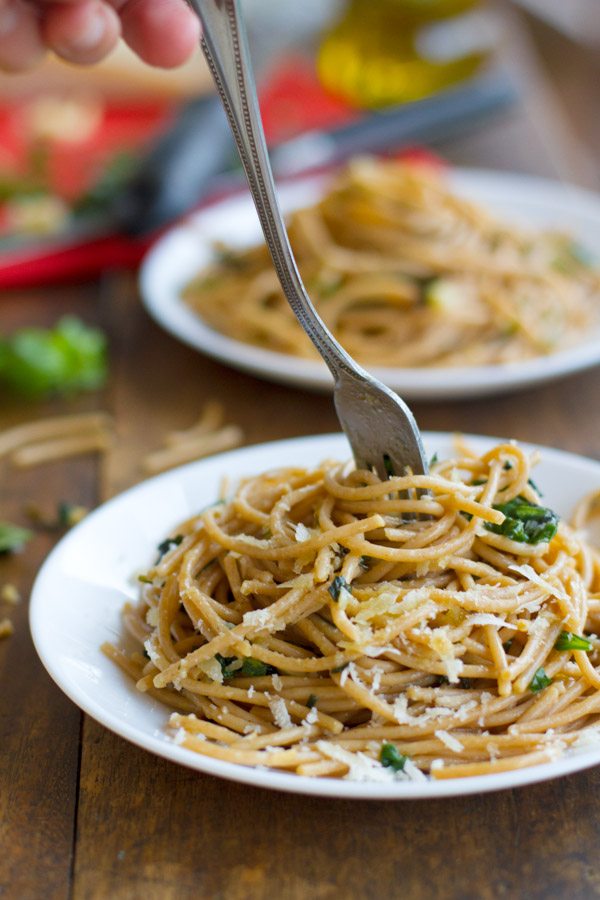plain spaghetti: (218, 498, 507, 727)
